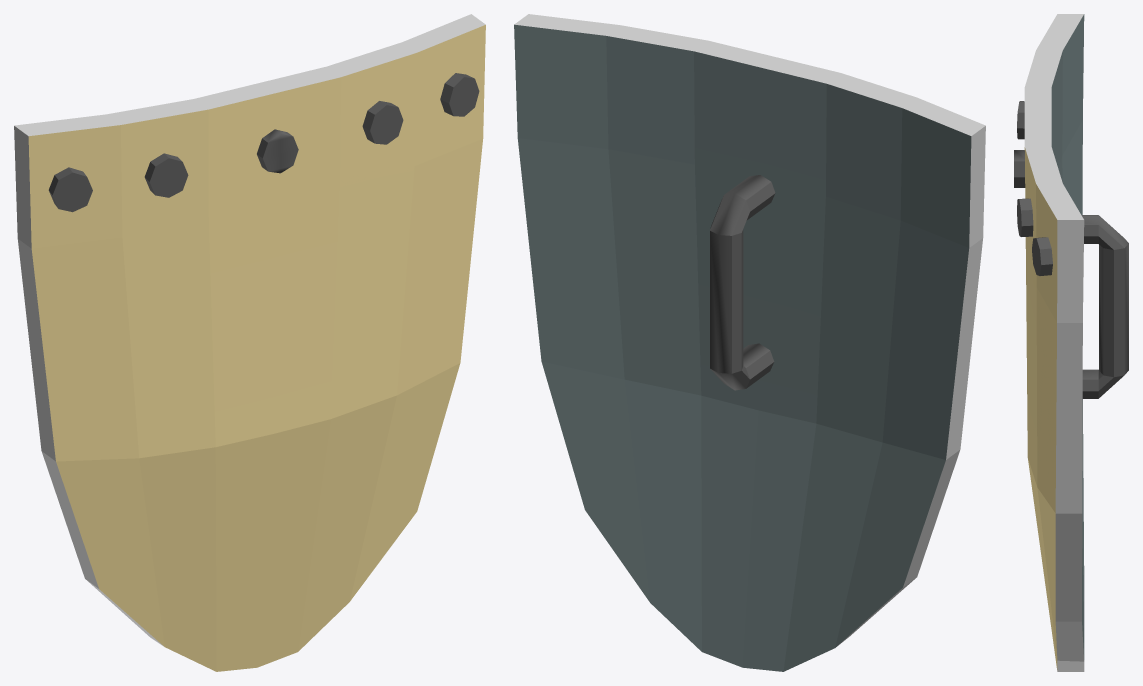
The model's file is sheild.glb.
3 renders of one model, left to right at view 1: azimuth 30°, elevation 25°; view 2: azimuth 150°, elevation 25°; view 3: azimuth 270°, elevation 25°, orthographic. The views are drawn at different scales.
Visible parts, largest first — view 1: Shield; view 2: Shield; view 3: Shield.
Boxes of the visible parts, bbox=[...] form: Shield: bbox=[14, 14, 485, 671]; Shield: bbox=[514, 14, 985, 671]; Shield: bbox=[1014, 14, 1128, 671].
Bounding box in the file's own units: 2.02 × 2.48 × 0.476.
Materials: 2 (2 with a texture image).
